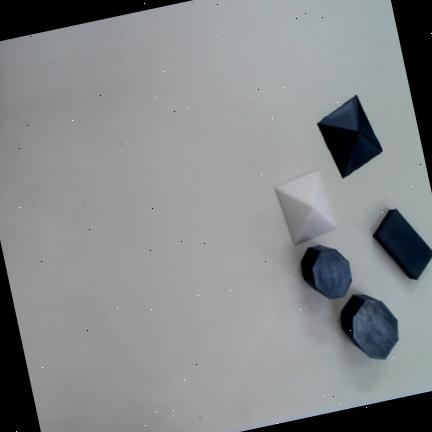Paralelepipedo: (372, 208, 432, 279)
Piramide: (318, 95, 383, 177), (275, 171, 336, 246)
Prisma_hexagonal: (340, 294, 399, 359), (300, 245, 352, 300)
